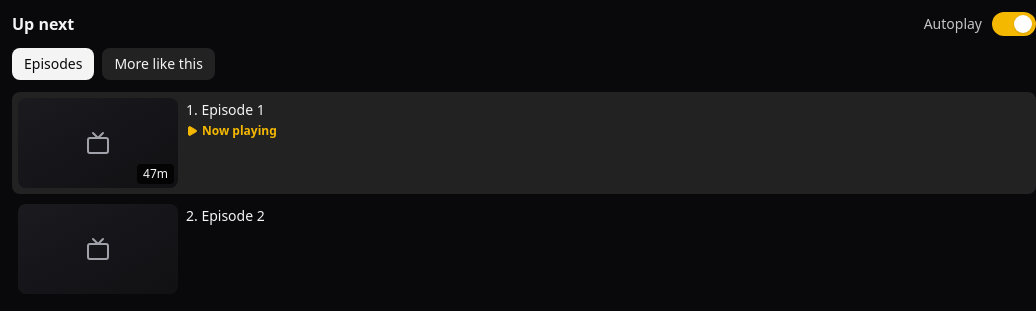
Test case: UpNext › switches chips, and says so when a chip has nothing
The width and height of the screenshot is (1036, 311).
Click the button "More like this". click: (159, 64)
box: [102,48,215,80]
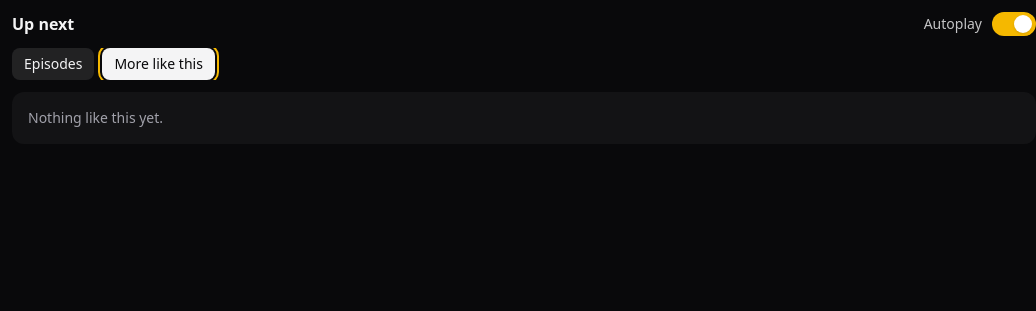
Check: the text "Nothing like this yet." is shown, box [12,92,1035,144]
Check: no links are shown
